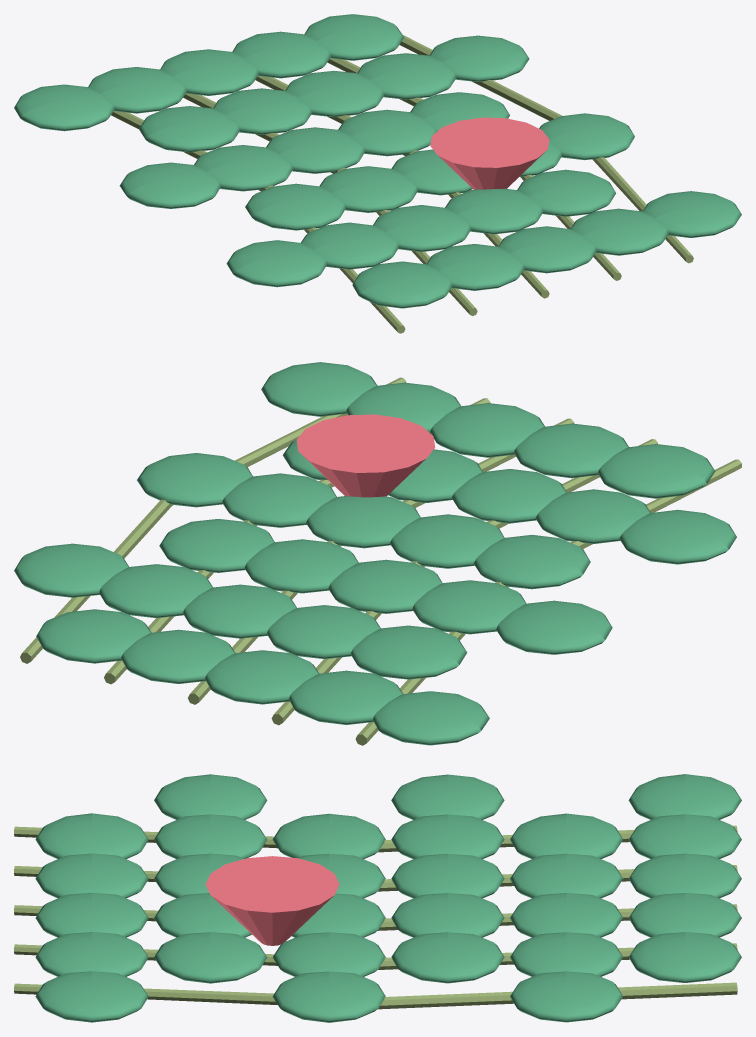
Rendered from beach_morning_glory_runner_tropical_island_and_palm_trees_6831.glb.
3 views of the same model, one above another, from view 1: azimuth 30°, elevation 25°; view 2: azimuth 150°, elevation 25°; view 3: azimuth 270°, elevation 25° (orthographic). The views are drawn at different scales.
Parts seen in each view (by area): view 1: morning-glory-runner; view 2: morning-glory-runner; view 3: morning-glory-runner.
Part boxes in pixels (x1=…): morning-glory-runner: x1=14, y1=14, x2=741, y2=333; morning-glory-runner: x1=14, y1=362, x2=741, y2=745; morning-glory-runner: x1=14, y1=774, x2=741, y2=1022.
Size of the model in its own units: 1.12 by 0.1367 by 1.41.
